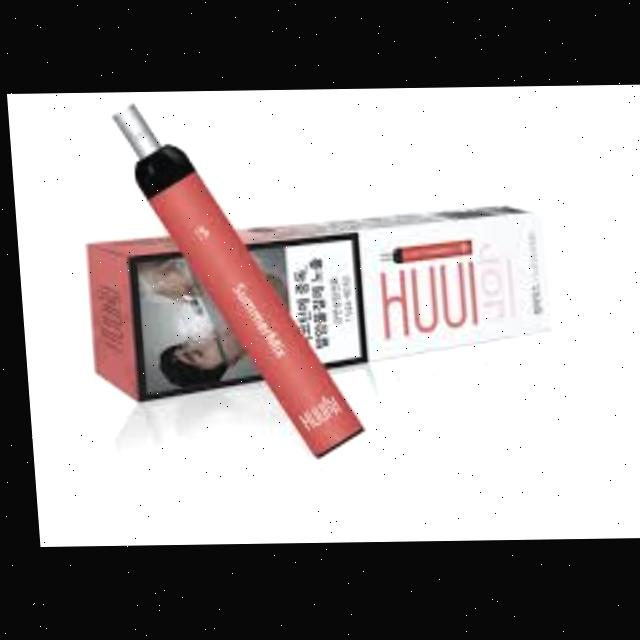vape: (108, 100, 361, 459)
